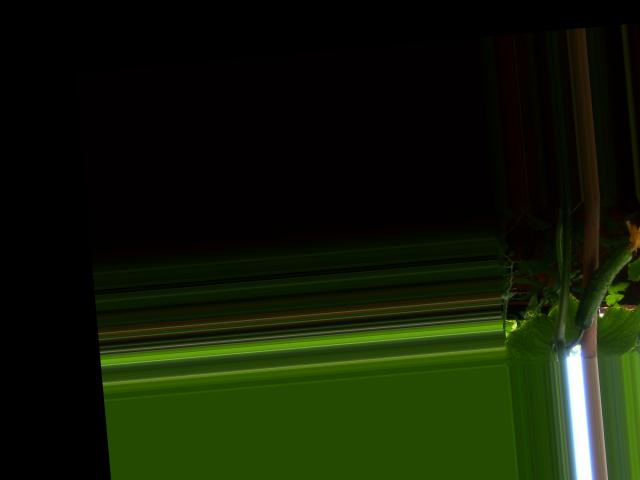cucumber: (567, 218, 640, 329)
